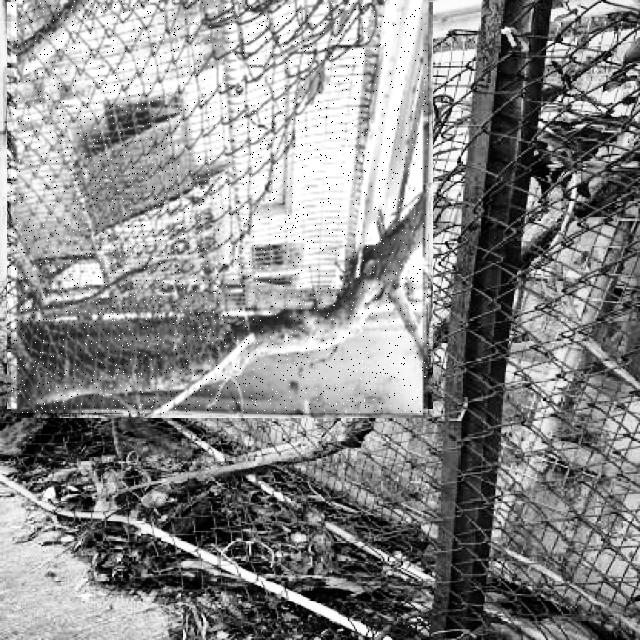anomaly-fence: (11, 0, 428, 413)
